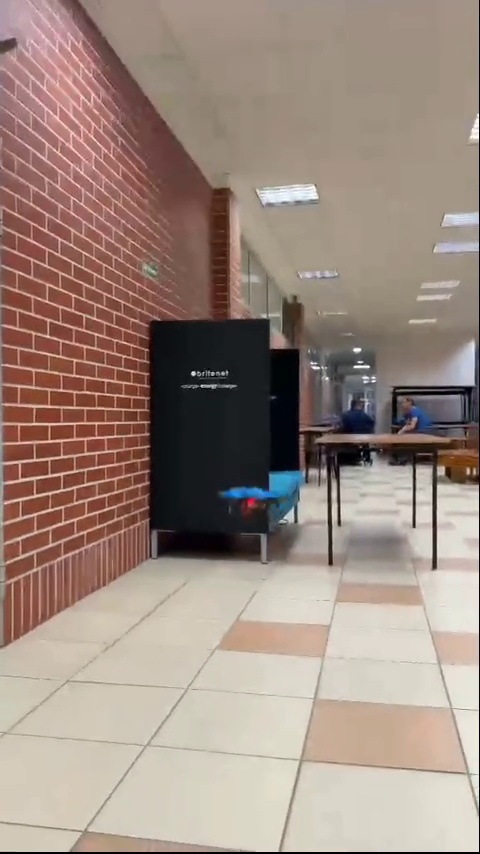drone: (220, 487, 294, 524)
no vest: (389, 393, 442, 432), (334, 391, 368, 436)
